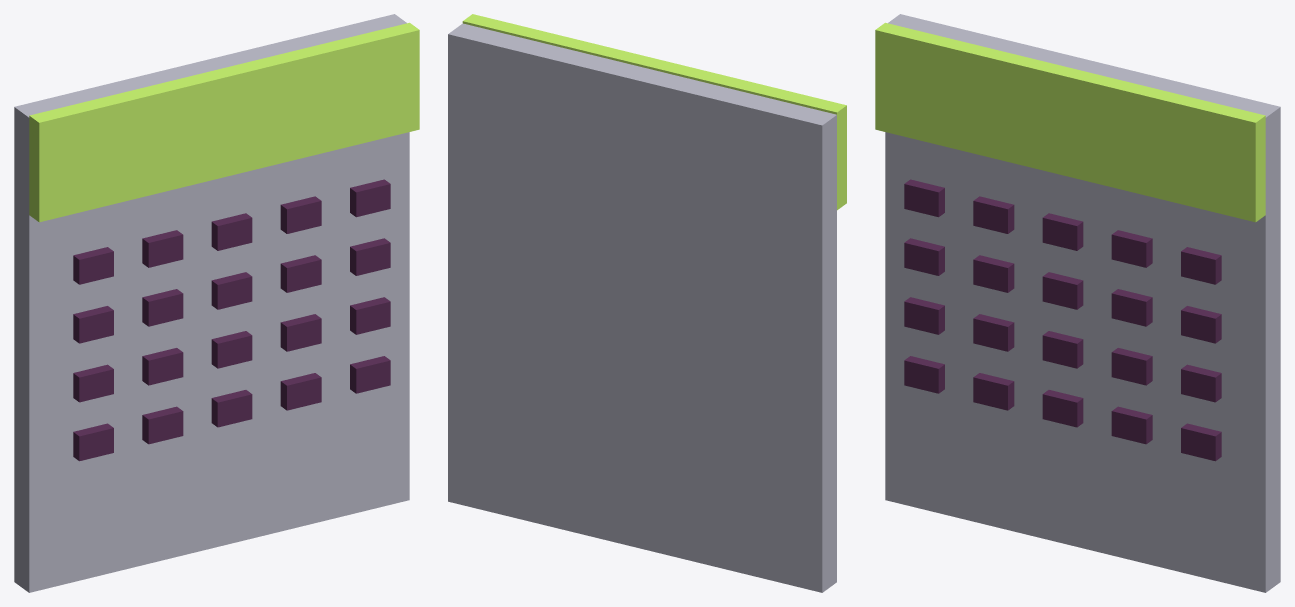
The model's file is calendar.obj.
3 renders of one model, left to right at view 1: azimuth 30°, elevation 25°; view 2: azimuth 150°, elevation 25°; view 3: azimuth 330°, elevation 25°, orthographic.
Parts seen in each view (by area): view 1: calendar-back, calendar-header, date-square-2-3, date-square-0-1, date-square-0-2, date-square-1-1, date-square-3-2, date-square-1-3, date-square-2-1, date-square-2-2, date-square-3-3, date-square-0-3 (+10 smaller); view 2: calendar-back, calendar-header; view 3: calendar-back, calendar-header, date-square-2-1, date-square-0-2, date-square-0-3, date-square-1-3, date-square-3-2, date-square-1-1, date-square-2-2, date-square-2-3, date-square-3-1, date-square-0-1 (+10 smaller).
Part boxes in pixels (box(x1,y1,x2,y2)): calendar-back: box(14, 14, 409, 592); calendar-header: box(29, 22, 419, 222); date-square-2-3: box(280, 255, 321, 292); date-square-0-1: box(142, 406, 183, 444); date-square-0-2: box(211, 390, 252, 427); date-square-1-1: box(142, 348, 183, 385); date-square-3-2: box(211, 213, 252, 250); date-square-1-3: box(280, 314, 321, 351); date-square-2-1: box(142, 289, 183, 326); date-square-2-2: box(211, 272, 252, 309); date-square-3-3: box(280, 196, 321, 233); date-square-0-3: box(280, 373, 321, 410); calendar-back: box(448, 23, 836, 592); calendar-header: box(462, 14, 846, 210); calendar-back: box(885, 14, 1280, 592); calendar-header: box(875, 22, 1265, 222); date-square-2-1: box(973, 255, 1014, 292); date-square-0-2: box(1042, 390, 1083, 427); date-square-0-3: box(1111, 406, 1152, 444); date-square-1-3: box(1111, 348, 1152, 385); date-square-3-2: box(1042, 213, 1083, 250); date-square-1-1: box(973, 314, 1014, 351); date-square-2-2: box(1042, 272, 1083, 309); date-square-2-3: box(1111, 289, 1152, 326); date-square-3-1: box(973, 196, 1014, 233); date-square-0-1: box(973, 373, 1014, 410).
Size of the model in its own units: 0.88 by 1.05 by 0.1225.
